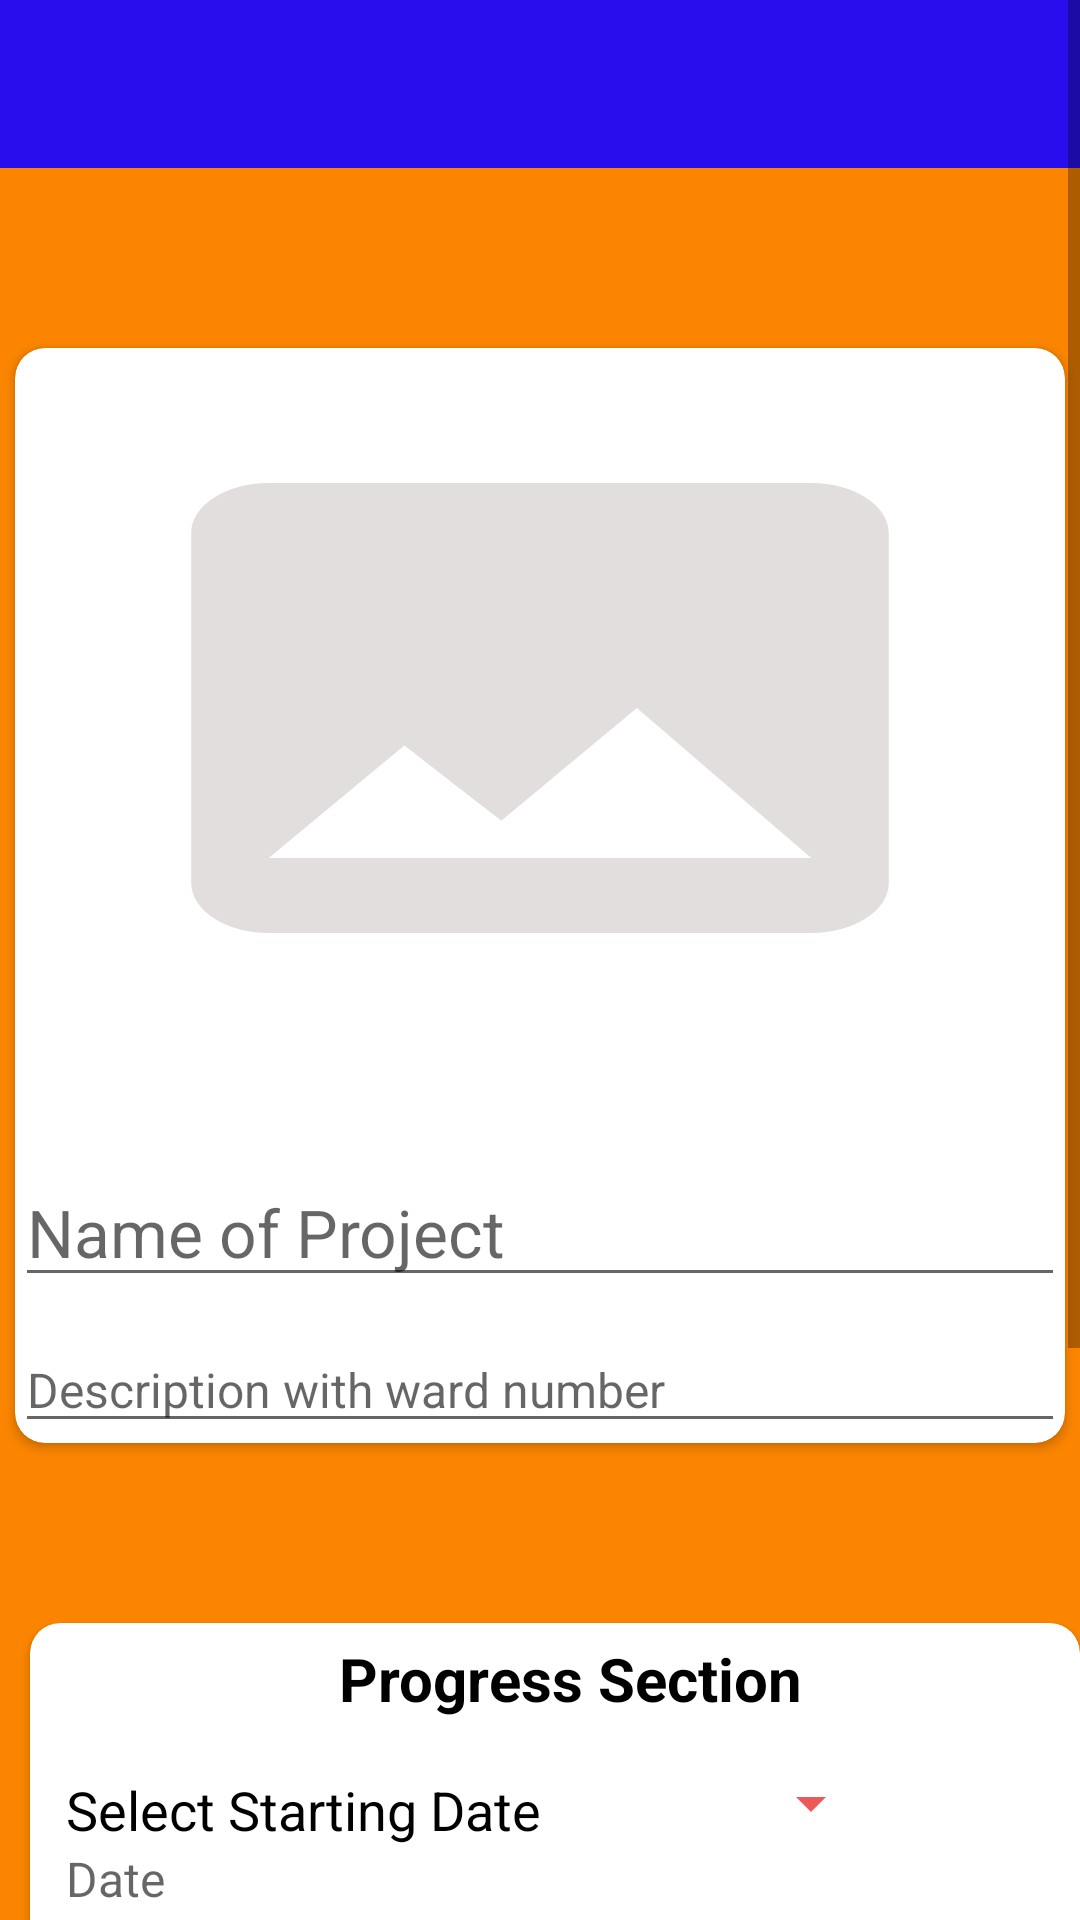

Icons on this 1080×1920 Android screen, each with its box as [x1=x1, y1=y1, x2=x2, y2=y2]:
arrow drop down: [x1=796, y1=1797, x2=826, y2=1812]
